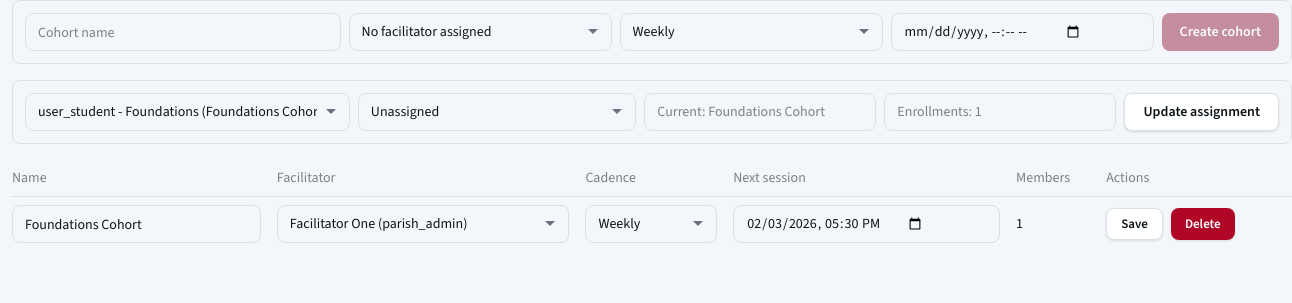
ParishCohortManager › deletes a cohort for users who can manage all
The image size is (1292, 303).
Click the button "Delete".
click(1203, 224)  # box [1171,208,1235,240]
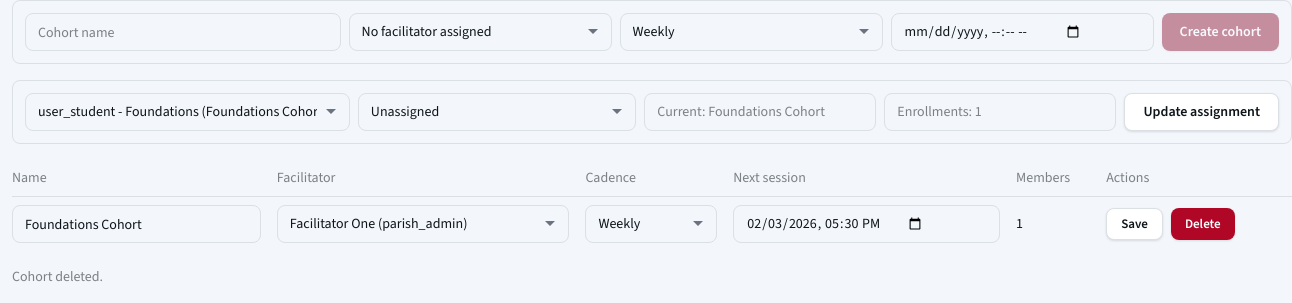
Now the text "Cohort deleted." is shown, box [12,267,103,286]
